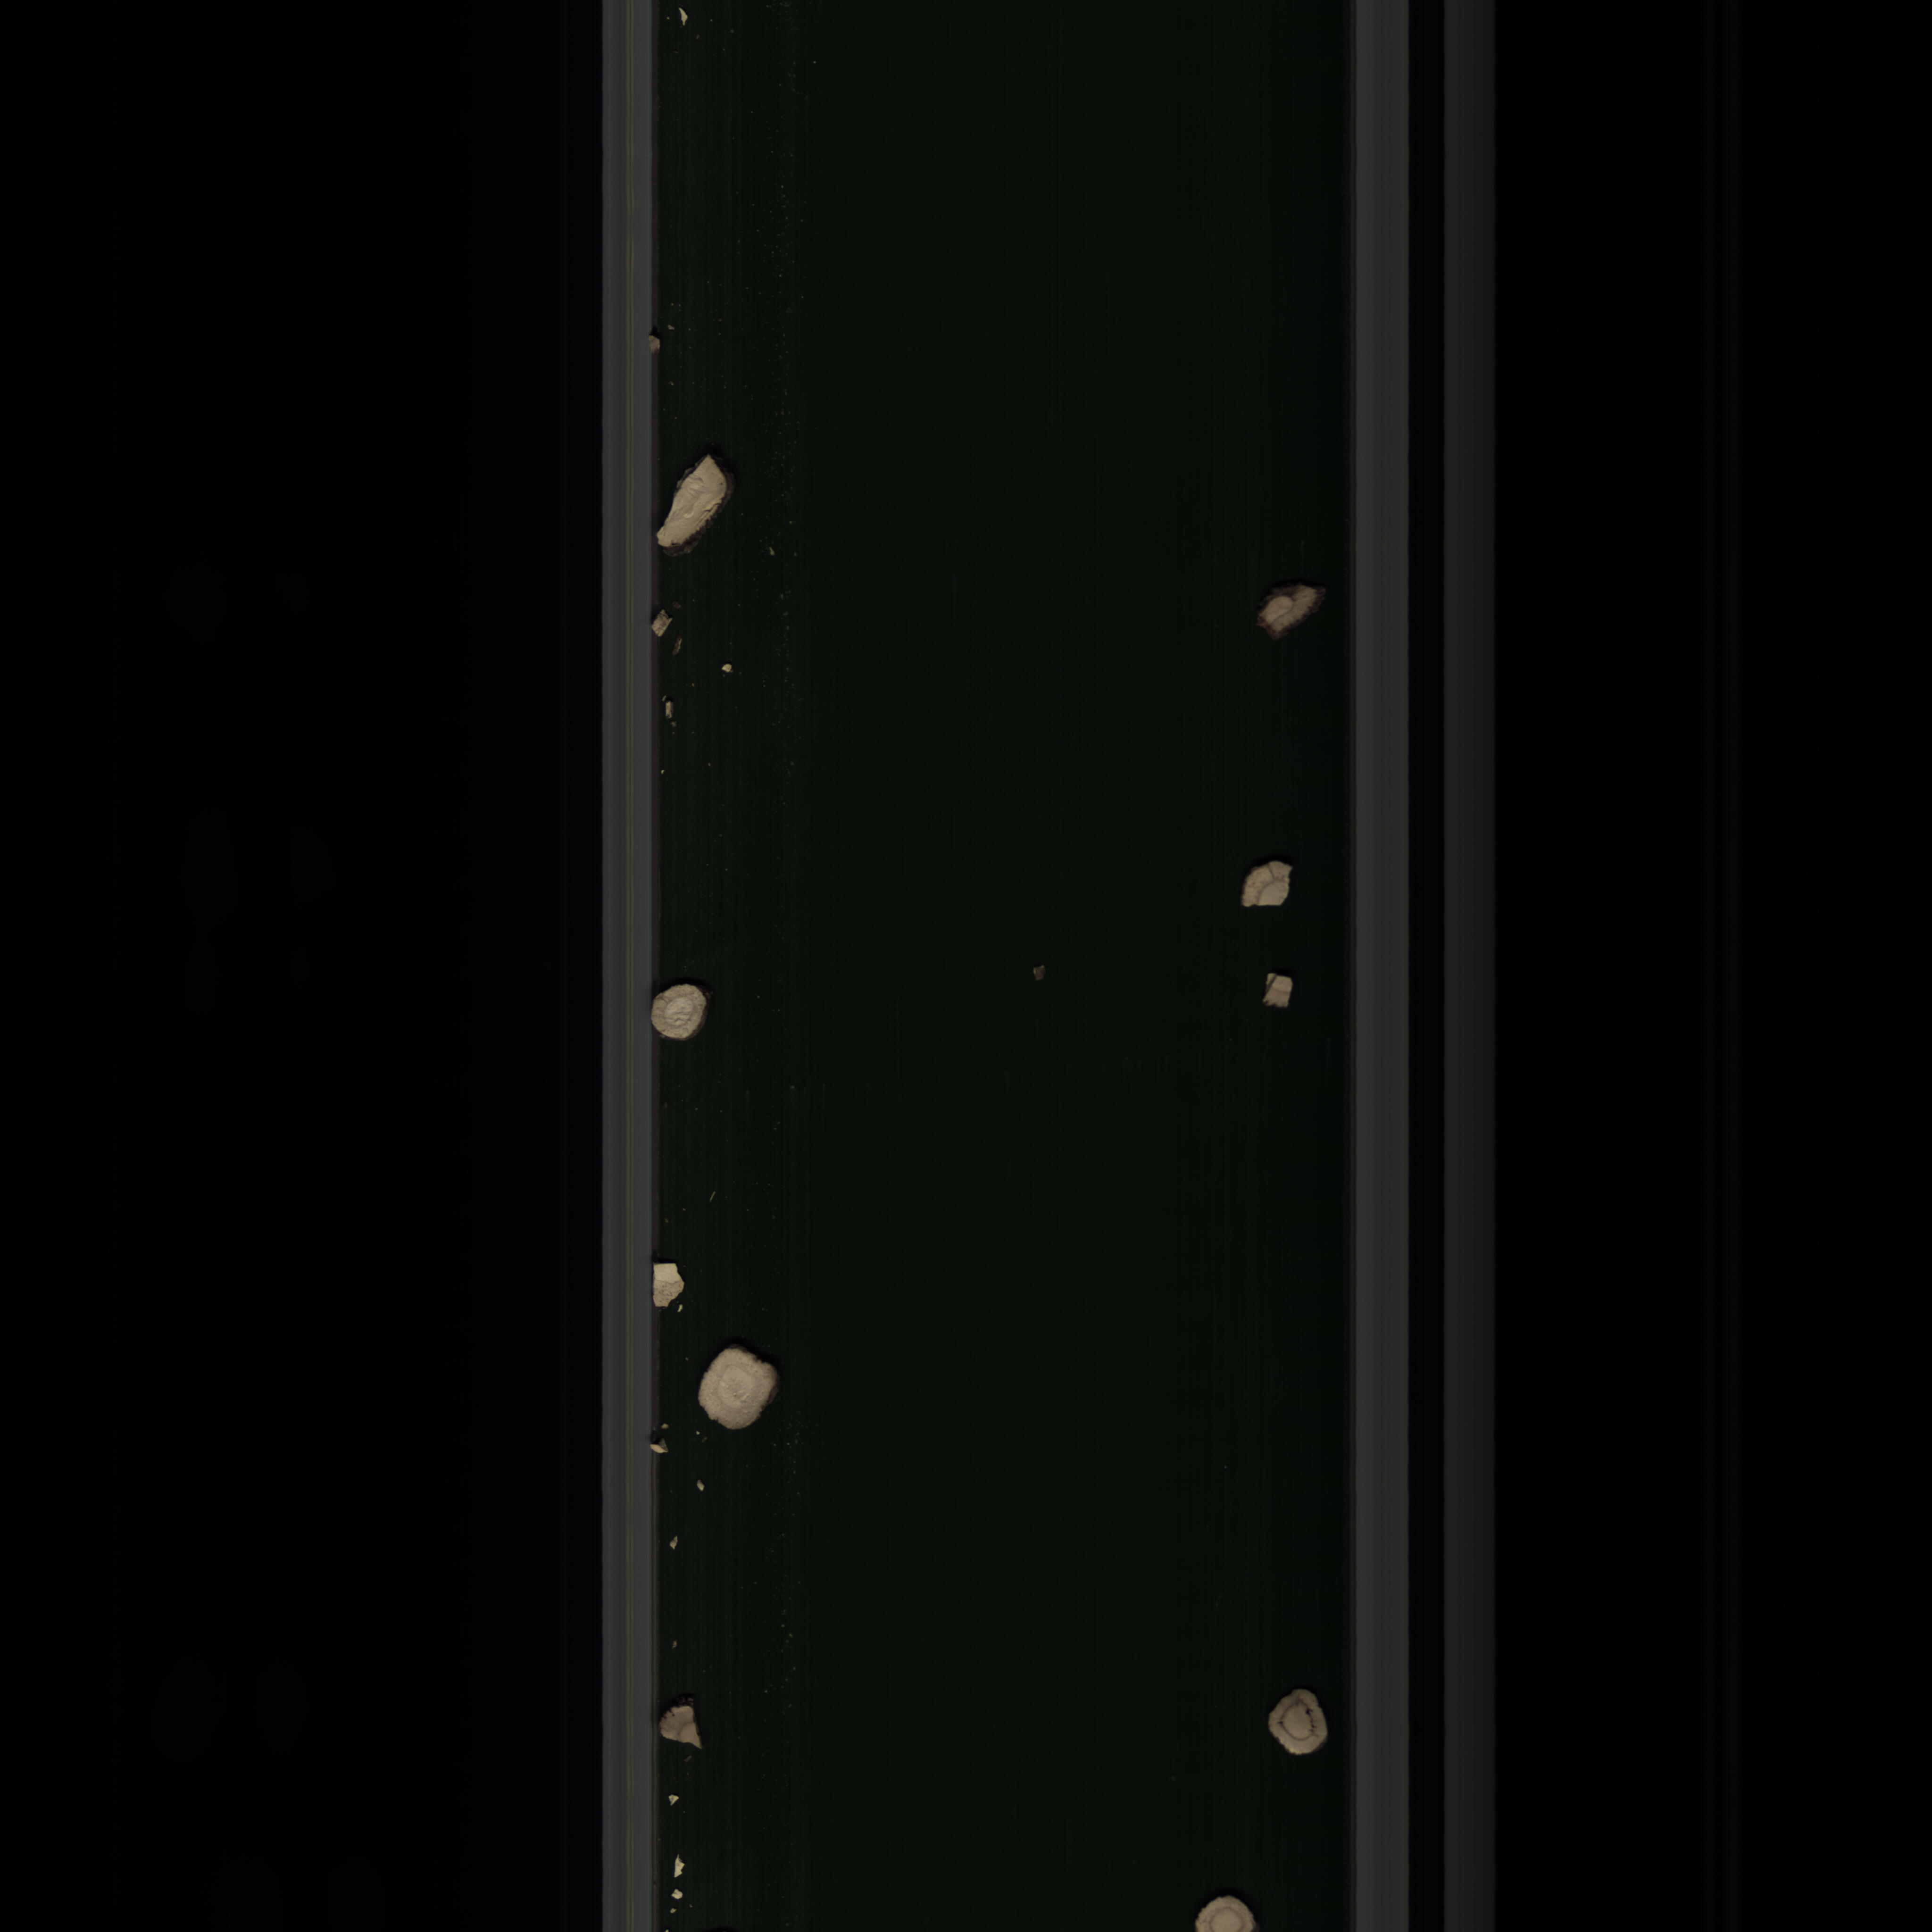bark: (1256, 568, 1322, 648)
debris: (655, 449, 743, 550), (1226, 851, 1313, 920), (656, 1709, 720, 1759), (646, 1260, 686, 1316), (1253, 970, 1300, 1016)
moldy: (1260, 1683, 1332, 1764)
